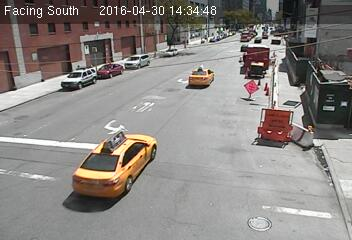neg: (17, 154, 44, 190), (141, 174, 167, 209), (265, 76, 288, 107), (135, 112, 158, 143), (227, 129, 250, 159), (118, 53, 139, 81), (198, 61, 218, 87), (76, 85, 95, 111), (241, 198, 259, 222)
